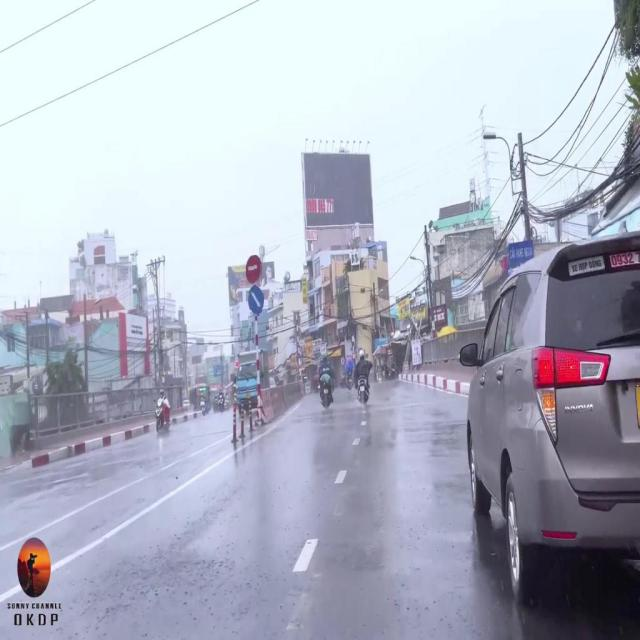cam_xe_di_nguoc_chieu: (246, 255, 262, 287)
huong_phai_di_vuot_chuong_ngai_vat_phai: (247, 284, 264, 316)
